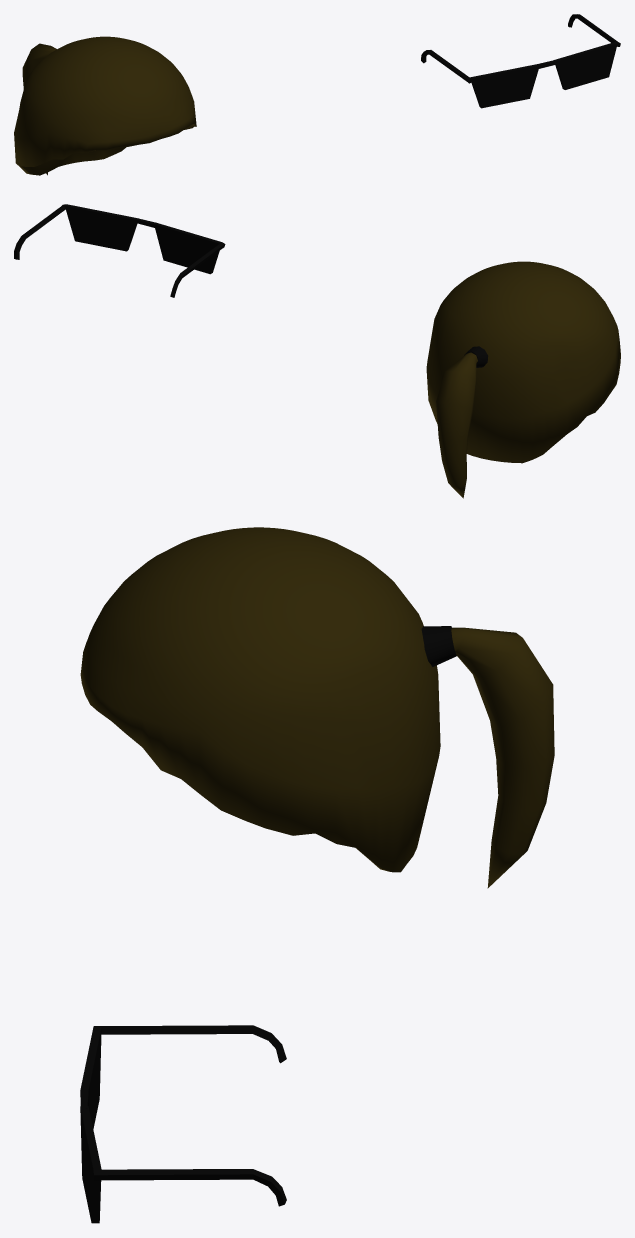
The model's file is pelo_xabi.fbx.
3 renders of one model, top to bottom at view 1: azimuth 30°, elevation 25°; view 2: azimuth 150°, elevation 25°; view 3: azimuth 270°, elevation 25°, orthographic. The views are drawn at different scales.
Parts seen in each view (by area): view 1: Sphere, Cube, Cube.001, Cone; view 2: Sphere, Cone, Cube.001, Cube; view 3: Sphere, Cone, Cube.001, Cube, Cylinder.
Boxes of the visible parts, <box> form: Sphere: <box>14,36,196,175</box>; Cube: <box>421,50,557,108</box>; Cube.001: <box>555,14,620,89</box>; Cone: <box>22,43,56,175</box>; Sphere: <box>426,261,620,463</box>; Cone: <box>436,352,477,498</box>; Cube.001: <box>14,204,137,259</box>; Cube: <box>135,218,225,297</box>; Sphere: <box>80,527,440,872</box>; Cone: <box>451,627,554,888</box>; Cube.001: <box>80,1106,286,1223</box>; Cube: <box>80,1025,286,1128</box>; Cylinder: <box>421,626,456,666</box>.
Size of the model in its own units: 144 by 42.55 by 53.39.
